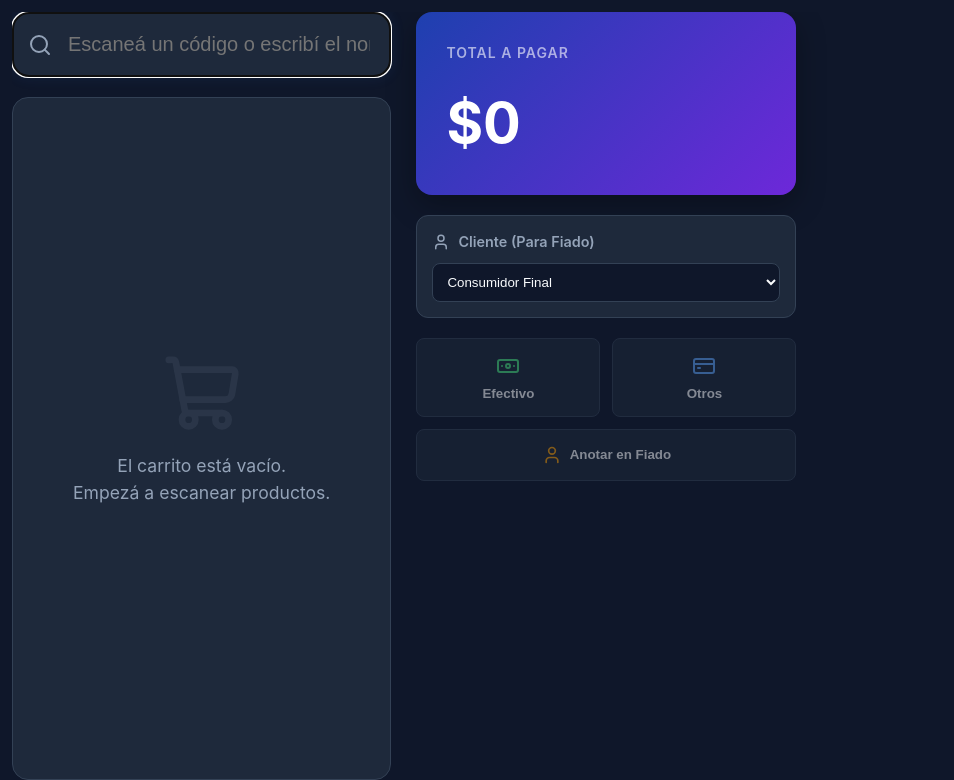
Test case: Ventas – cart operations › trash button removes the item from cart
The image size is (954, 780).
Type "7790001" into the field with placeholder "Escaneá un código o escribí el nombre... (Enter)" at point(202, 44), box [12,12,391,77]
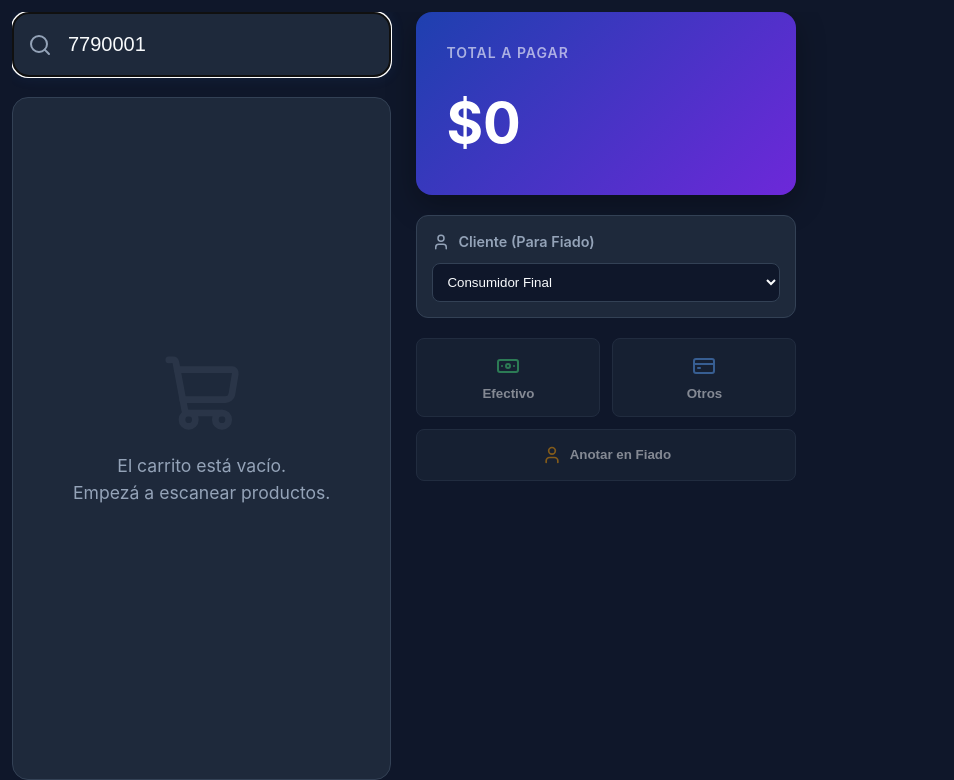
Press Enter in the field with placeholder "Escaneá un código o escribí el nombre... (Enter)", box [12,12,391,77]
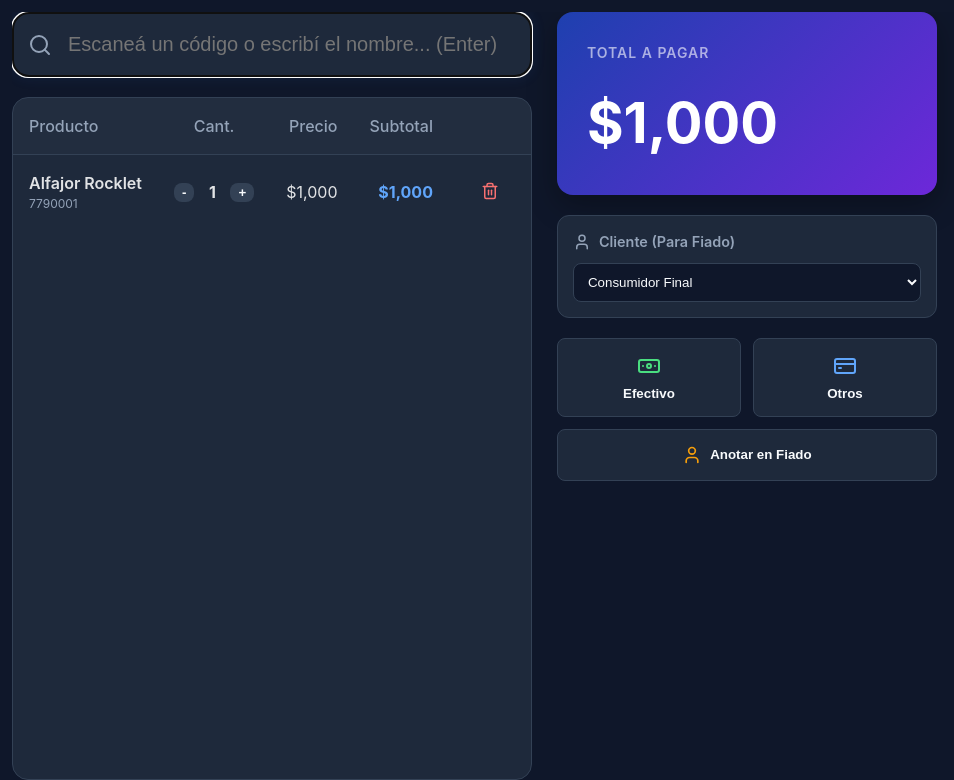
expect the text "Alfajor Rocklet" is shown: met, box [29,171,142,195]
Click the 3rd button at point(490, 192), box [475,176,505,208]
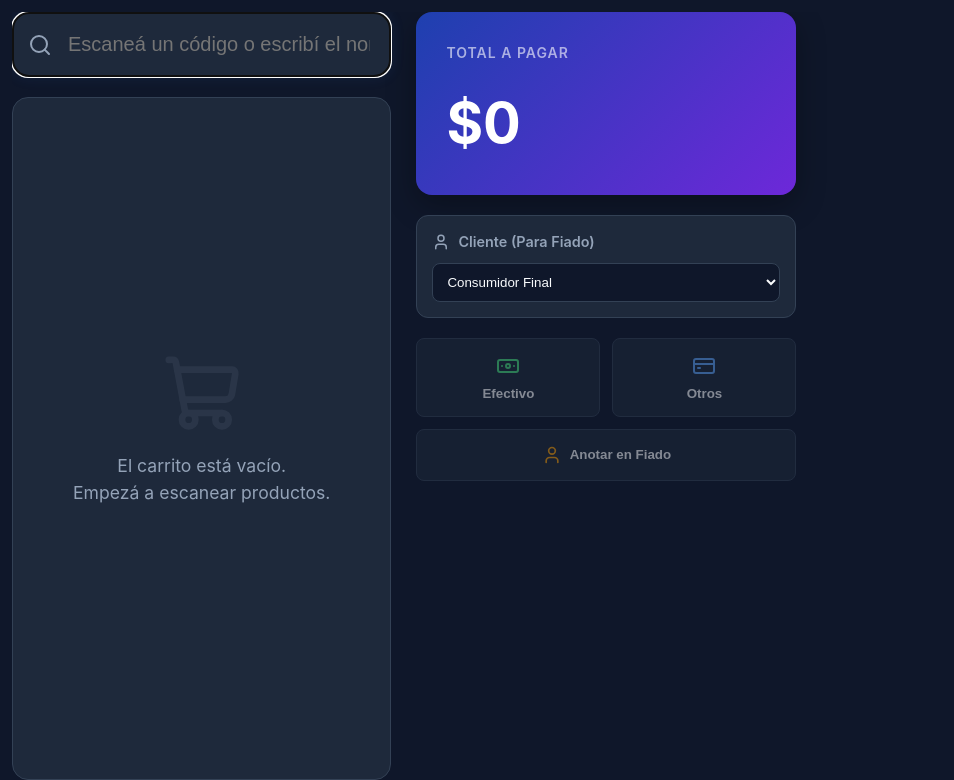
expect the text "El carrito está vacío.Empezá a escanear productos." is shown: met, box [73,453,330,506]
